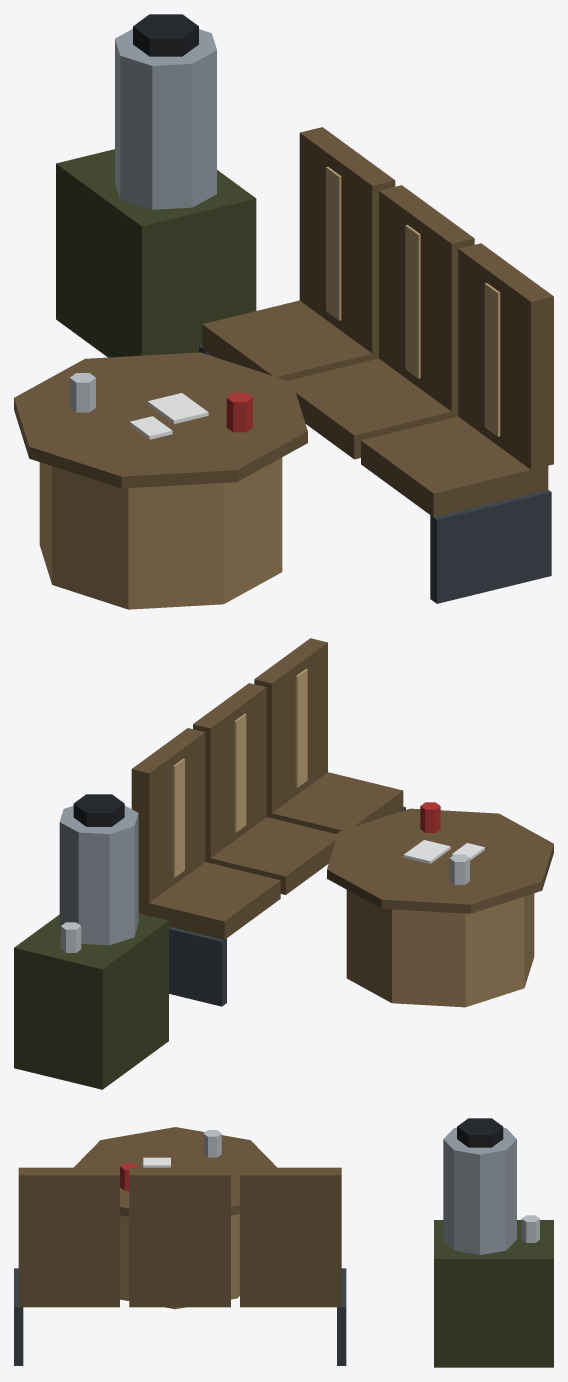
Rendered from prop_carrier_crew_corner.fbx.
3 views of the same model, one above another, from view 1: azimuth 30°, elevation 25°; view 2: azimuth 150°, elevation 25°; view 3: azimuth 270°, elevation 25° (orthographic). The views are drawn at different scales.
Visible parts, largest first — view 1: prop_carrier_crew_corner; view 2: prop_carrier_crew_corner; view 3: prop_carrier_crew_corner.
Part boxes in pixels (<box>): prop_carrier_crew_corner: <box>14,14,553,609</box>; prop_carrier_crew_corner: <box>14,638,553,1089</box>; prop_carrier_crew_corner: <box>14,1118,553,1367</box>.
Size of the model in its own units: 720 by 530 by 1170.
